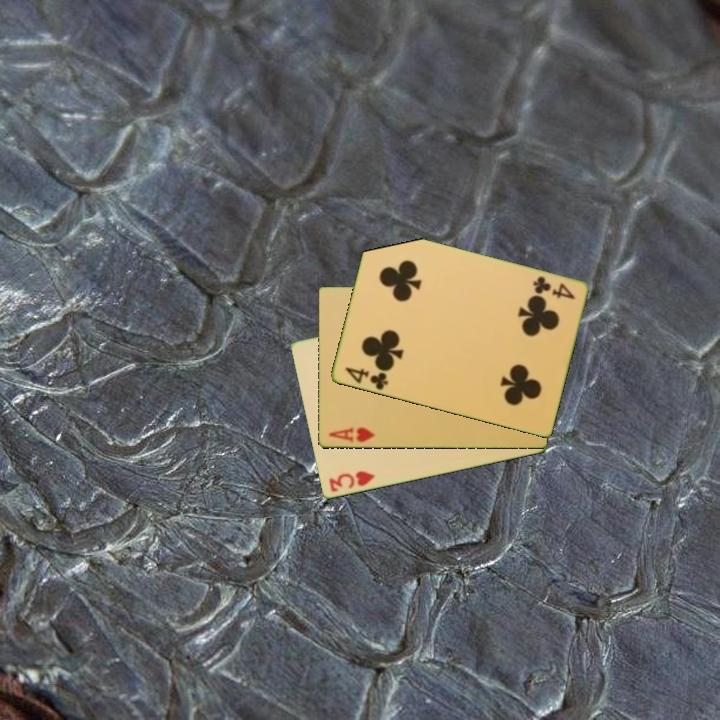3h: (325, 468, 377, 495)
4c: (341, 364, 391, 393), (529, 273, 577, 302)
Ah: (325, 424, 378, 445)
